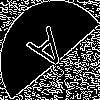A: (25, 25, 74, 82)
